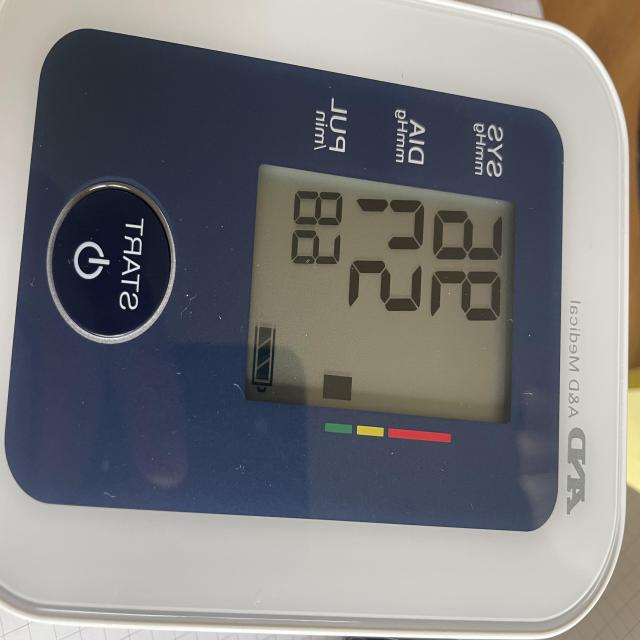bp: (0, 0, 632, 640)
